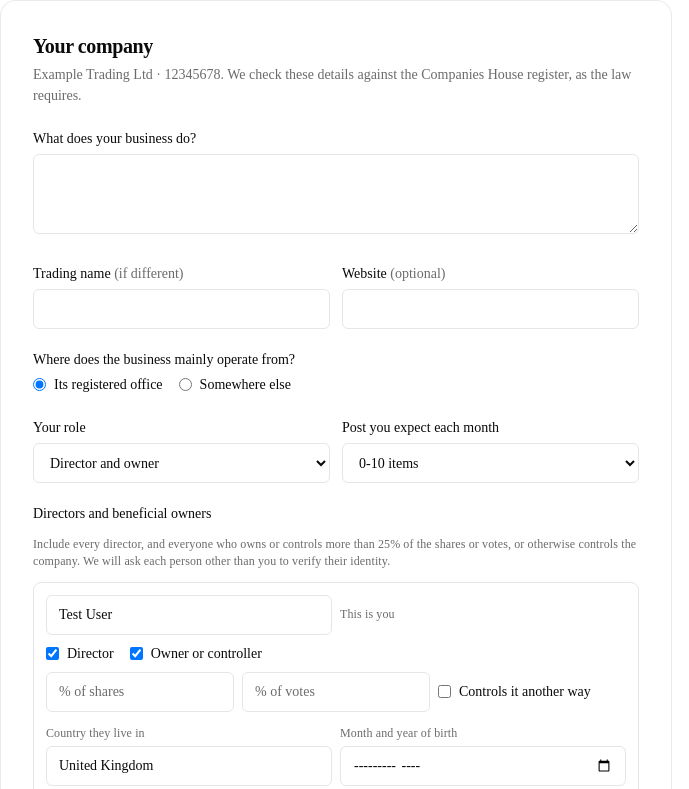
Test: Company declaration: customer › starts with the account holder filled in, and submits the declaration
Type "Software consultancy for small firms" into the text box labelled "What does your business do?".
click(336, 194); type("Software consultancy for small firms")  # box x1=33 y1=154 x2=639 y2=234
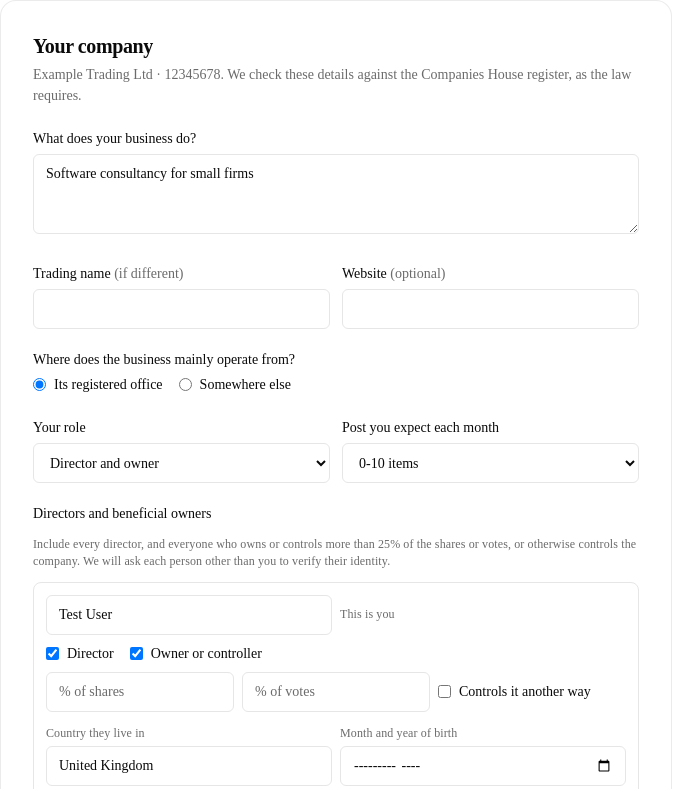
Type "100" into the field named "Person 1 share percentage".
click(140, 692); type("100")  # box x1=46 y1=672 x2=234 y2=712
(page scrolled)
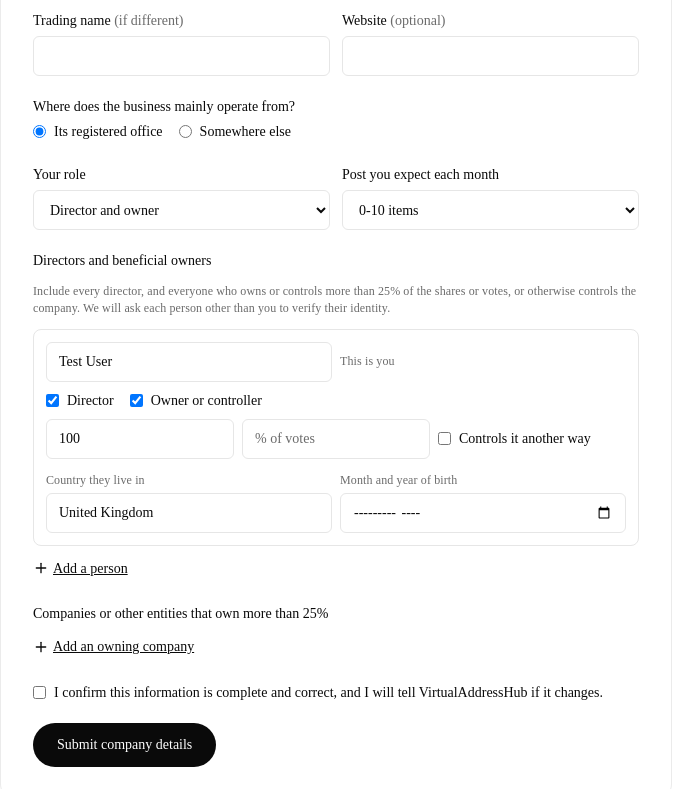
Click the checkbox labelled "I confirm".
click(40, 692)  # box x1=33 y1=686 x2=46 y2=699
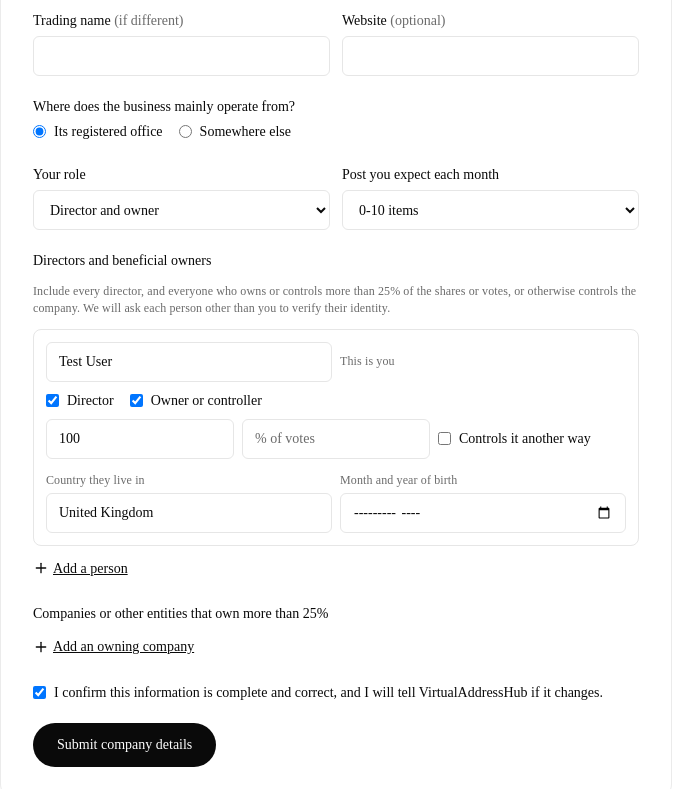
Click the button "Submit company details".
click(125, 745)  # box x1=33 y1=723 x2=216 y2=767
(page scrolled)
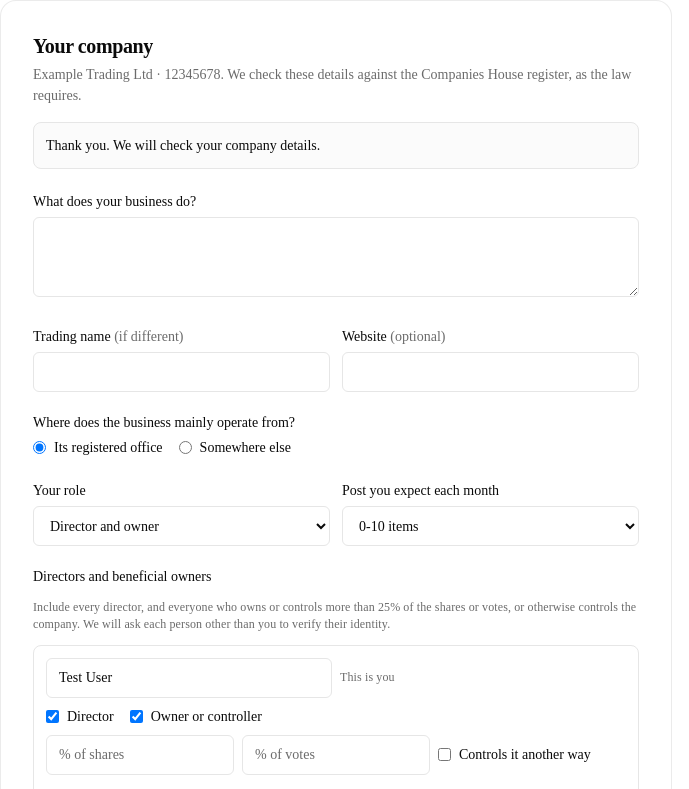
Result: the text "Thank you. We will check your company details." is shown at x1=33 y1=122 x2=639 y2=169
